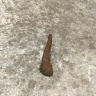Dog: (40, 33, 53, 76)
